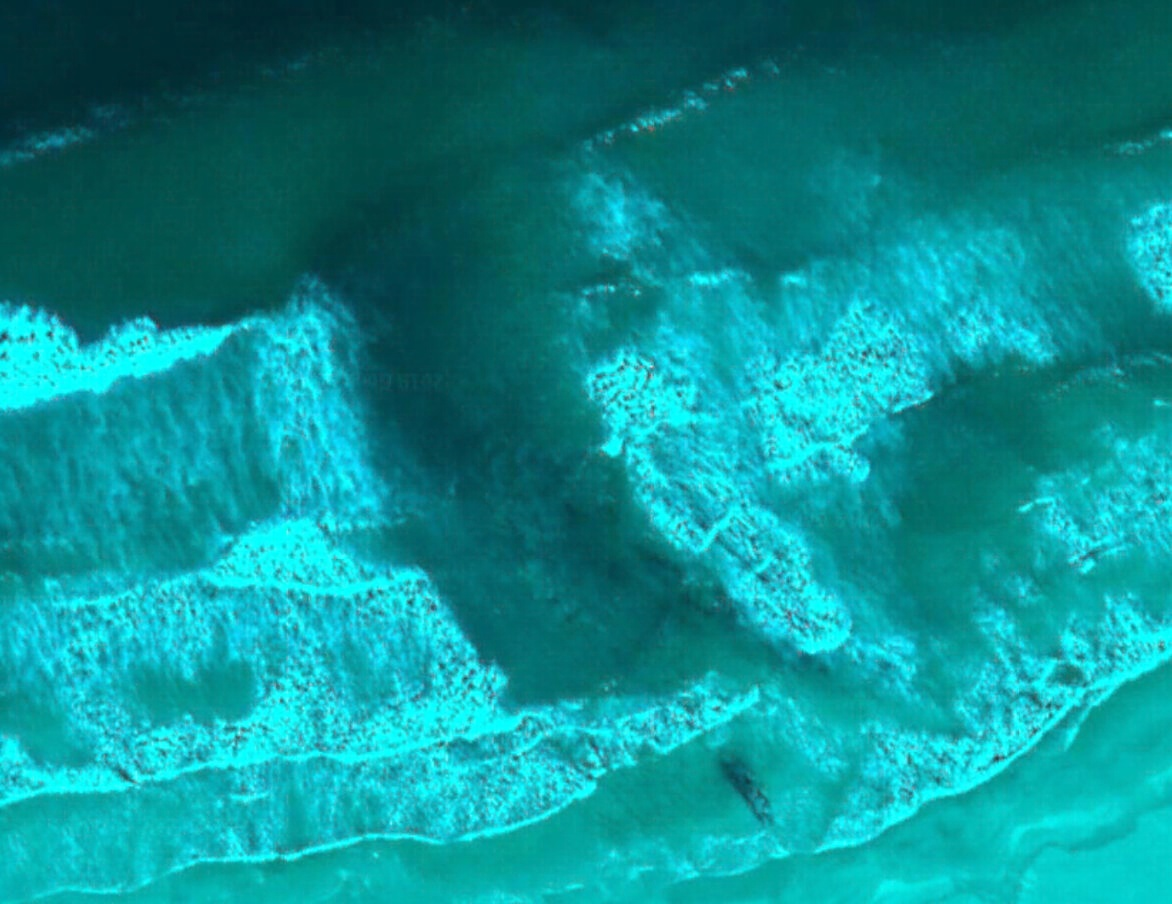rip_current: (298, 159, 813, 731)
